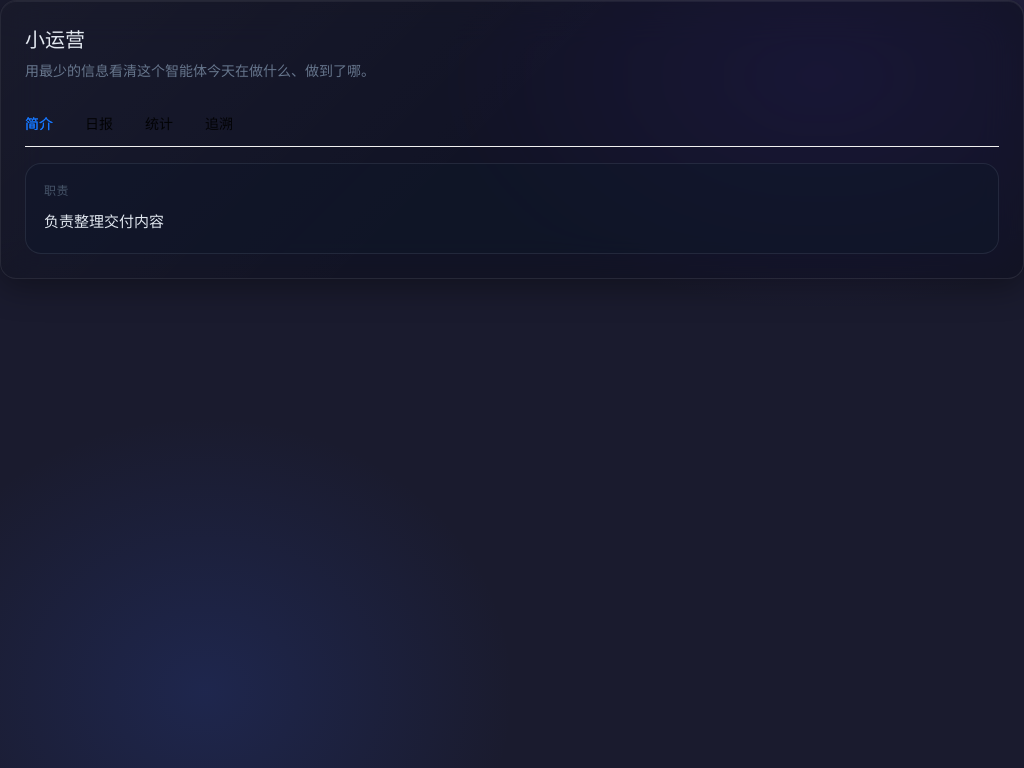
it: AgentWorkPanel › renders backend report errors instead of local fallback lines
The width and height of the screenshot is (1024, 768).
Step 1. Click the tab "日报" → (99, 124), box [85,113,113,135]
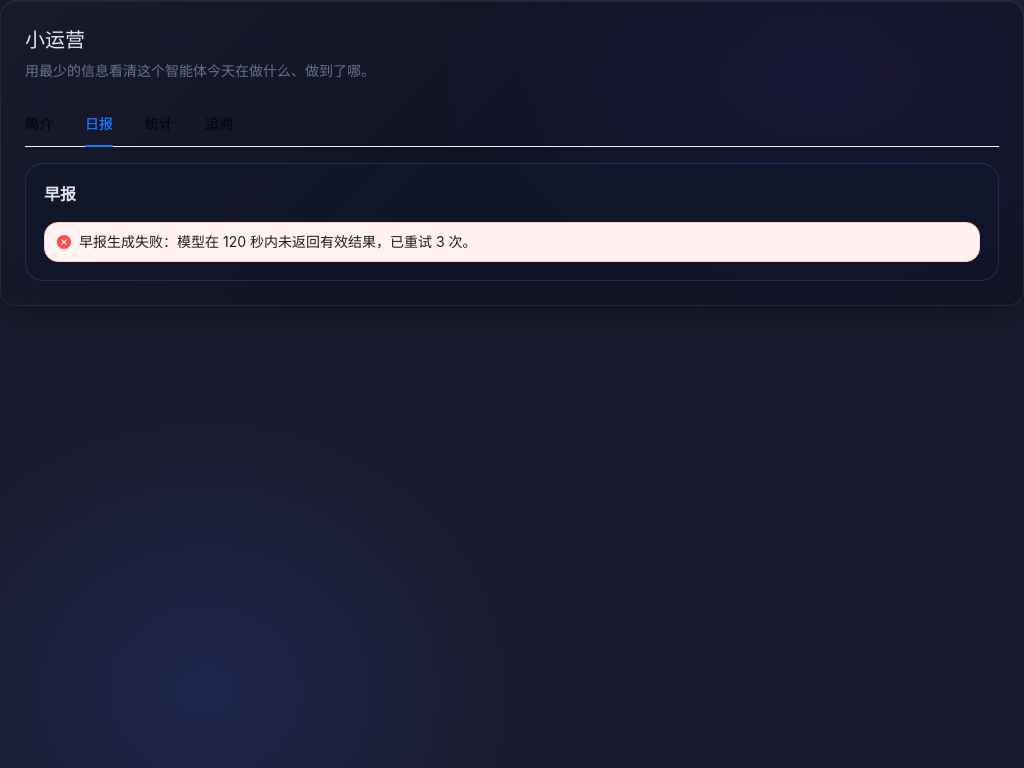
Result: the text "早报生成失败：模型在 120 秒内未返回有效结果，已重试 3 次。" is shown at [79,233,476,250]
